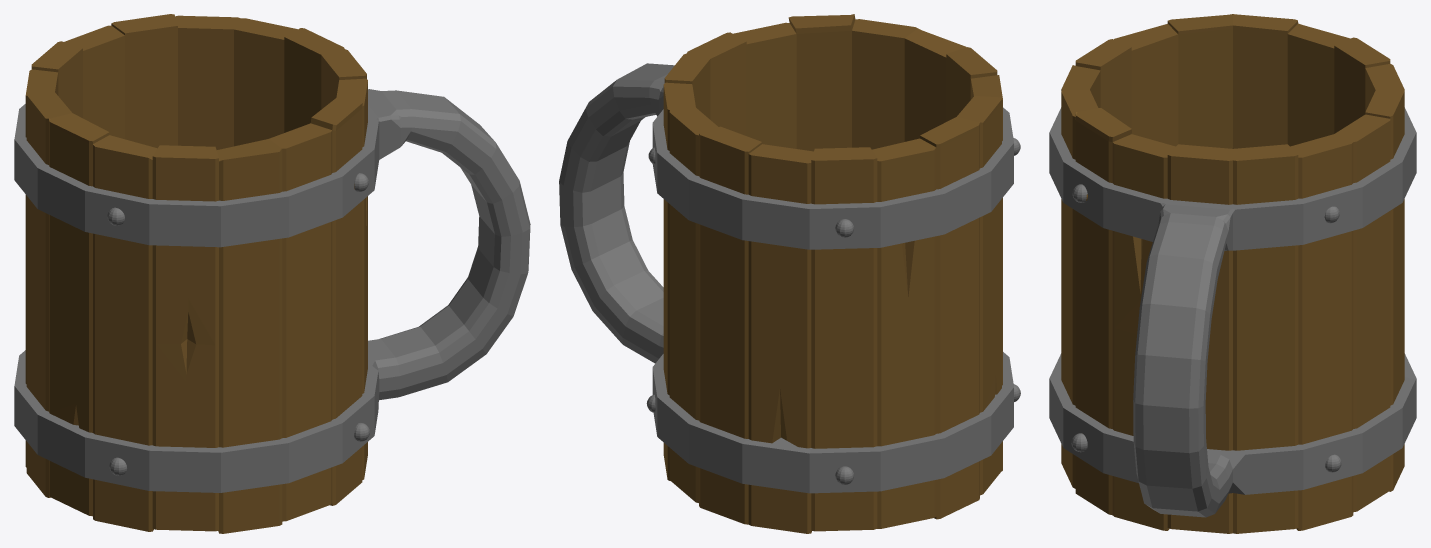
File: Mug.fbx
3 renders of one model, left to right at view 1: azimuth 30°, elevation 25°; view 2: azimuth 150°, elevation 25°; view 3: azimuth 270°, elevation 25°, orthographic.
Visible parts, largest first — view 1: Mug; view 2: Mug; view 3: Mug.
Boxes of the visible parts, left/top/right/bottom form: Mug: left=14, top=14, right=530, bottom=533; Mug: left=559, top=14, right=1020, bottom=533; Mug: left=1049, top=14, right=1416, bottom=533.
Bounding box in the file's own units: 20 × 16 × 14.
